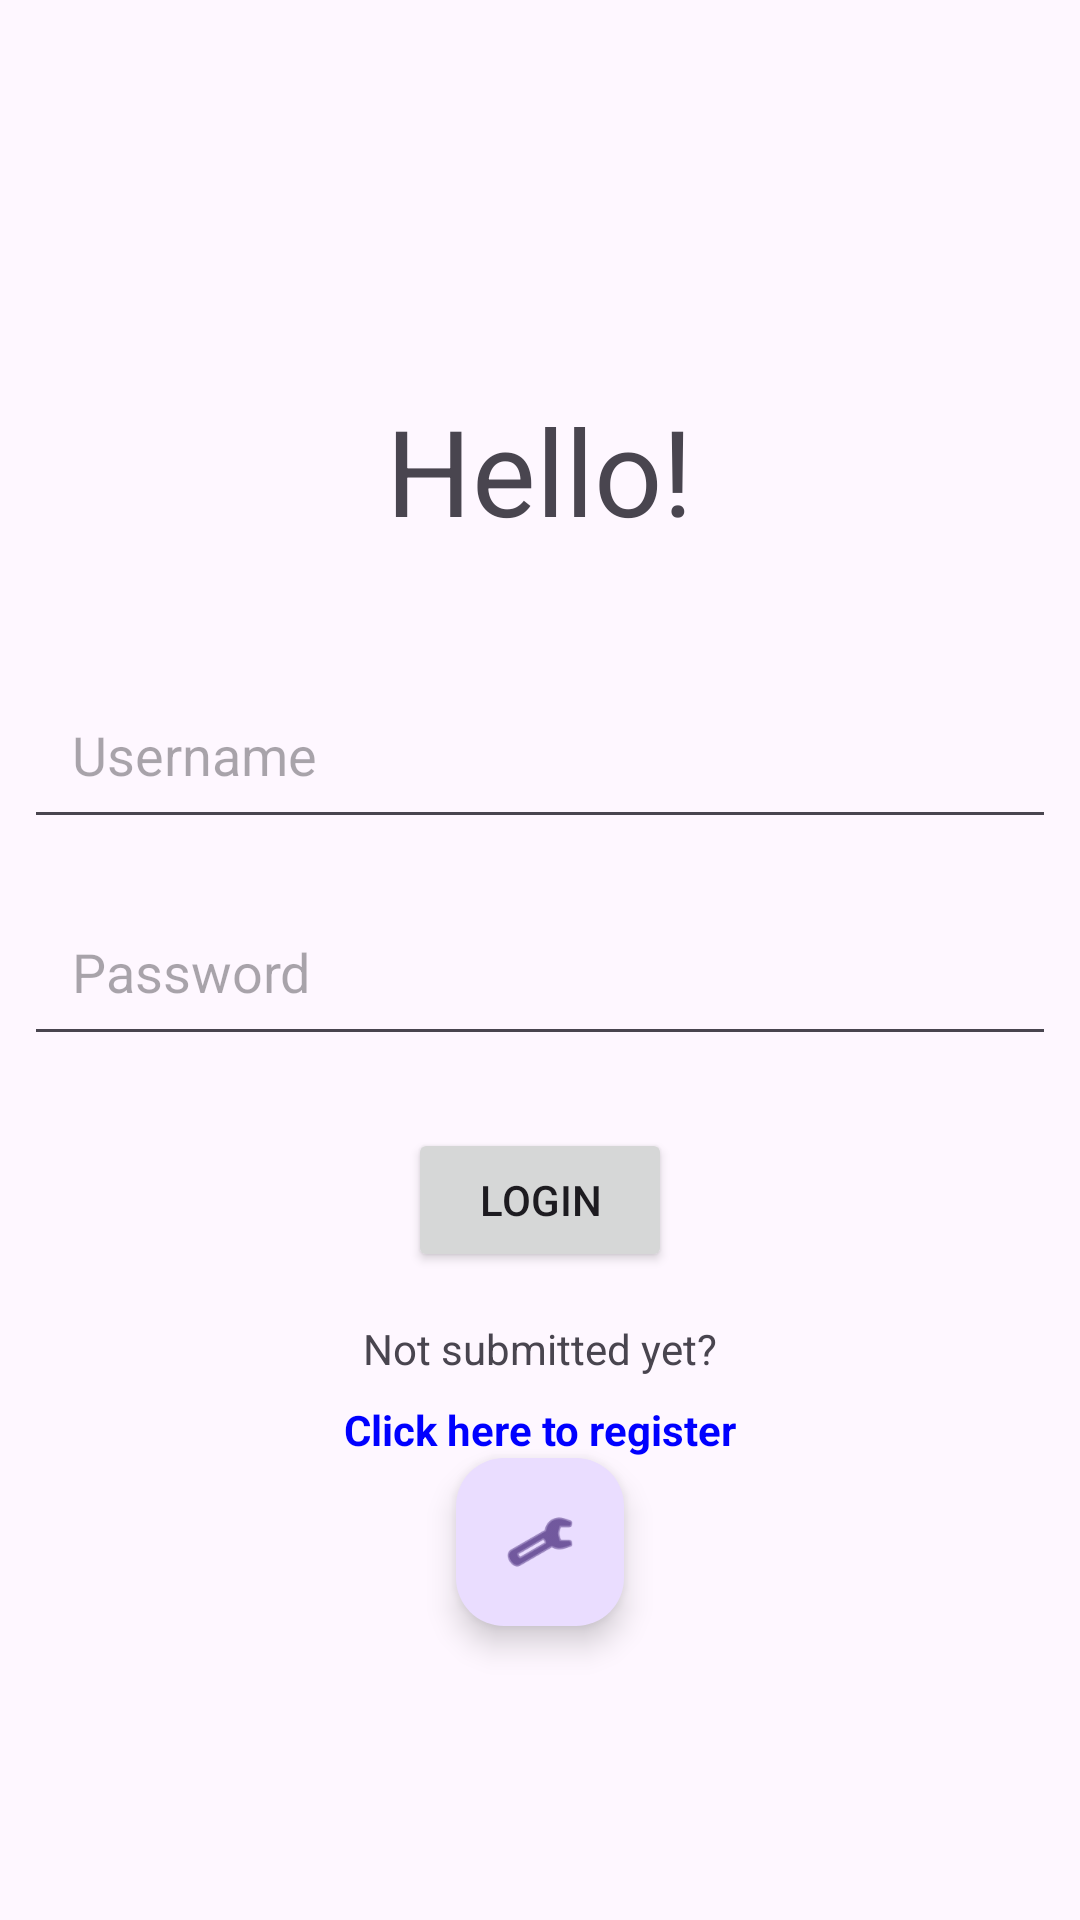

Icon bounding boxes for this 1080px x 1920px phone screenshot, format region(x1, y1, x2, y2):
preferences: region(456, 1458, 624, 1626)
